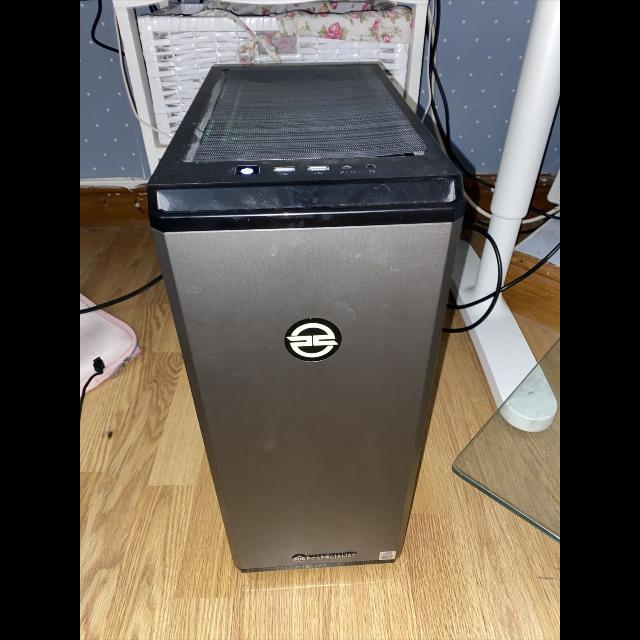Desktop-PC: (143, 59, 473, 575)
